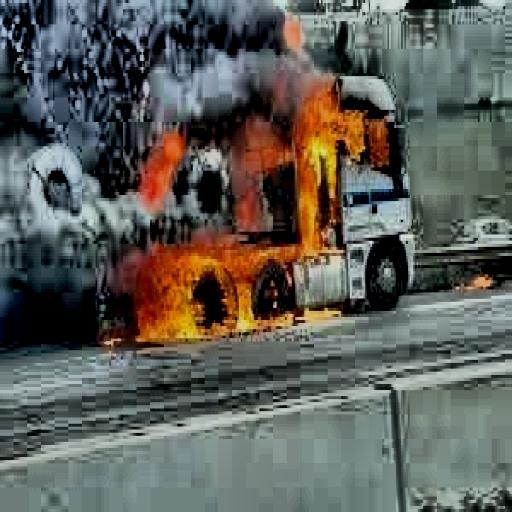fire: (132, 80, 370, 350)
